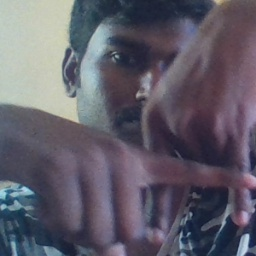H: (126, 109, 256, 239)
